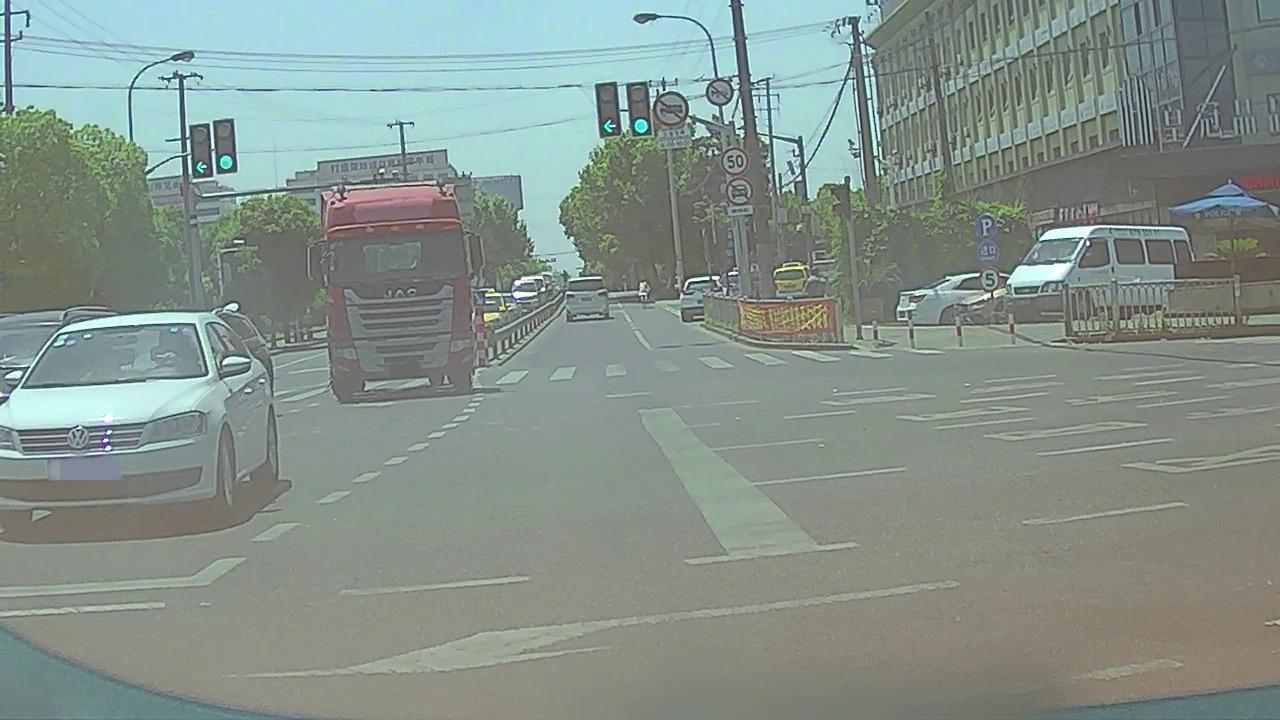traffic_light: (628, 81, 654, 138), (595, 84, 622, 136), (213, 121, 238, 173), (190, 127, 212, 176)
